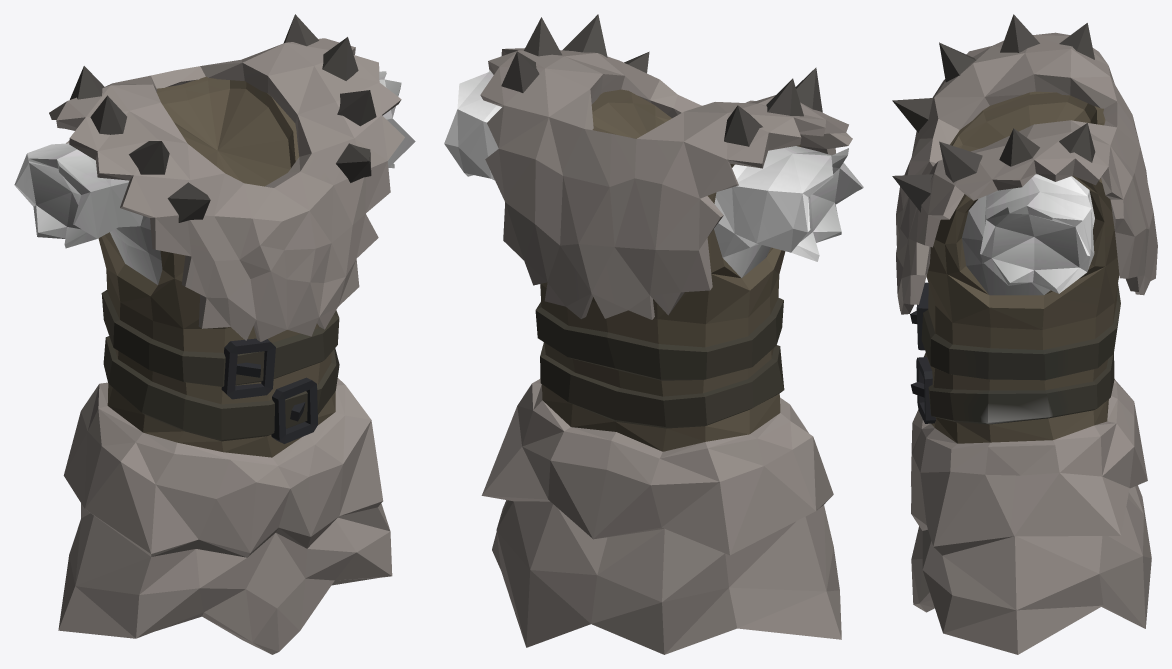
The model's file is armorSnowGoblinDisplay.fbx.
3 renders of one model, left to right at view 1: azimuth 30°, elevation 25°; view 2: azimuth 150°, elevation 25°; view 3: azimuth 270°, elevation 25°, orthographic. The views are drawn at different scales.
Parts seen in each view (by area): view 1: armorSnowGoblinDisplay; view 2: armorSnowGoblinDisplay; view 3: armorSnowGoblinDisplay.
Boxes of the visible parts, <box> form: armorSnowGoblinDisplay: <box>14,14,415,654</box>; armorSnowGoblinDisplay: <box>444,14,863,654</box>; armorSnowGoblinDisplay: <box>892,14,1157,654</box>.
Bounding box in the file's own units: 1.26 × 1.87 × 0.8322.
